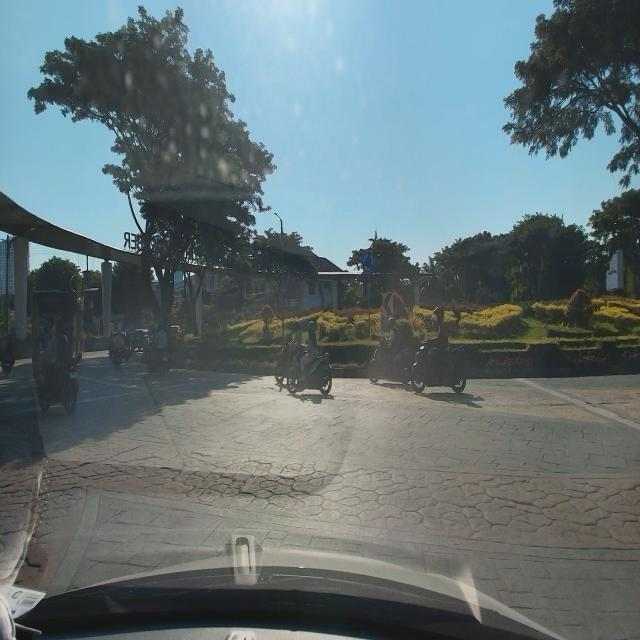bus: (28, 281, 85, 367)
